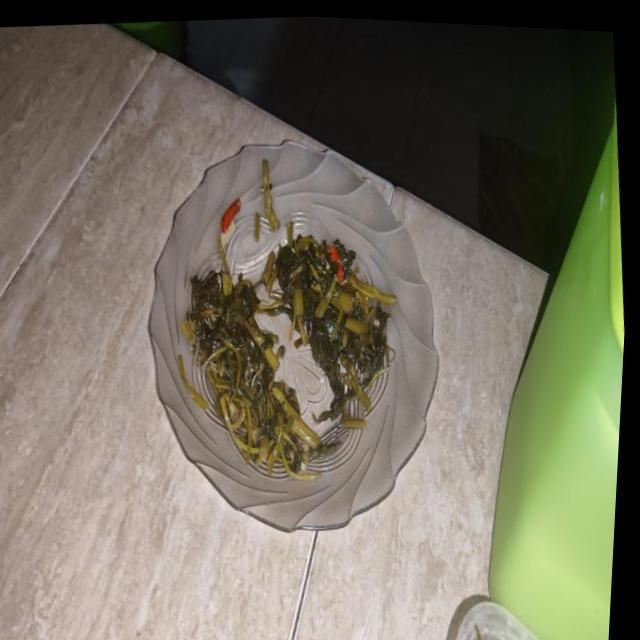tumis_kangkung: (181, 271, 320, 478), (262, 221, 395, 426)
